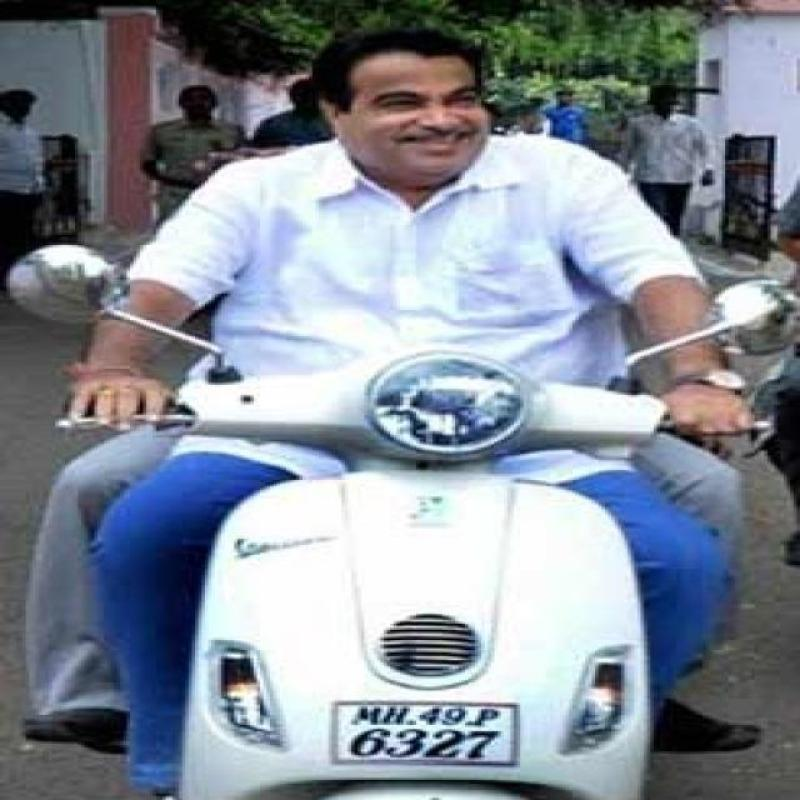nohelmet: (287, 18, 518, 171)
